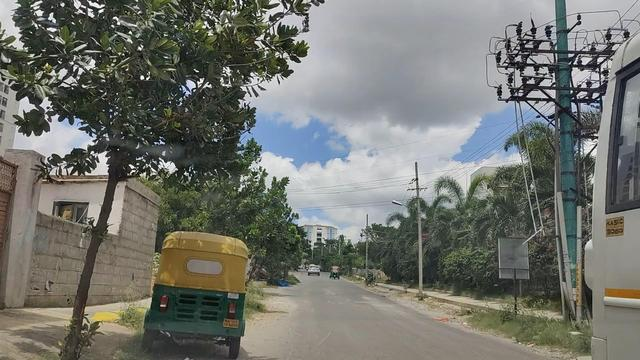RoadDamages: (345, 289, 399, 319)
